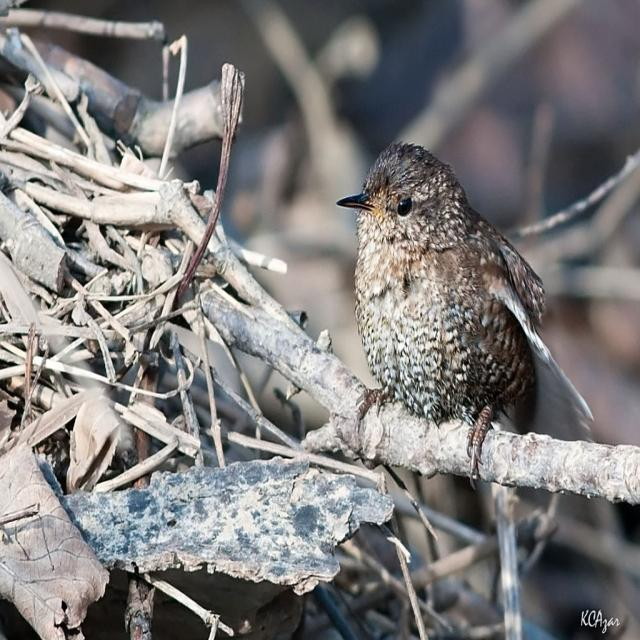bird: (338, 134, 594, 489)
